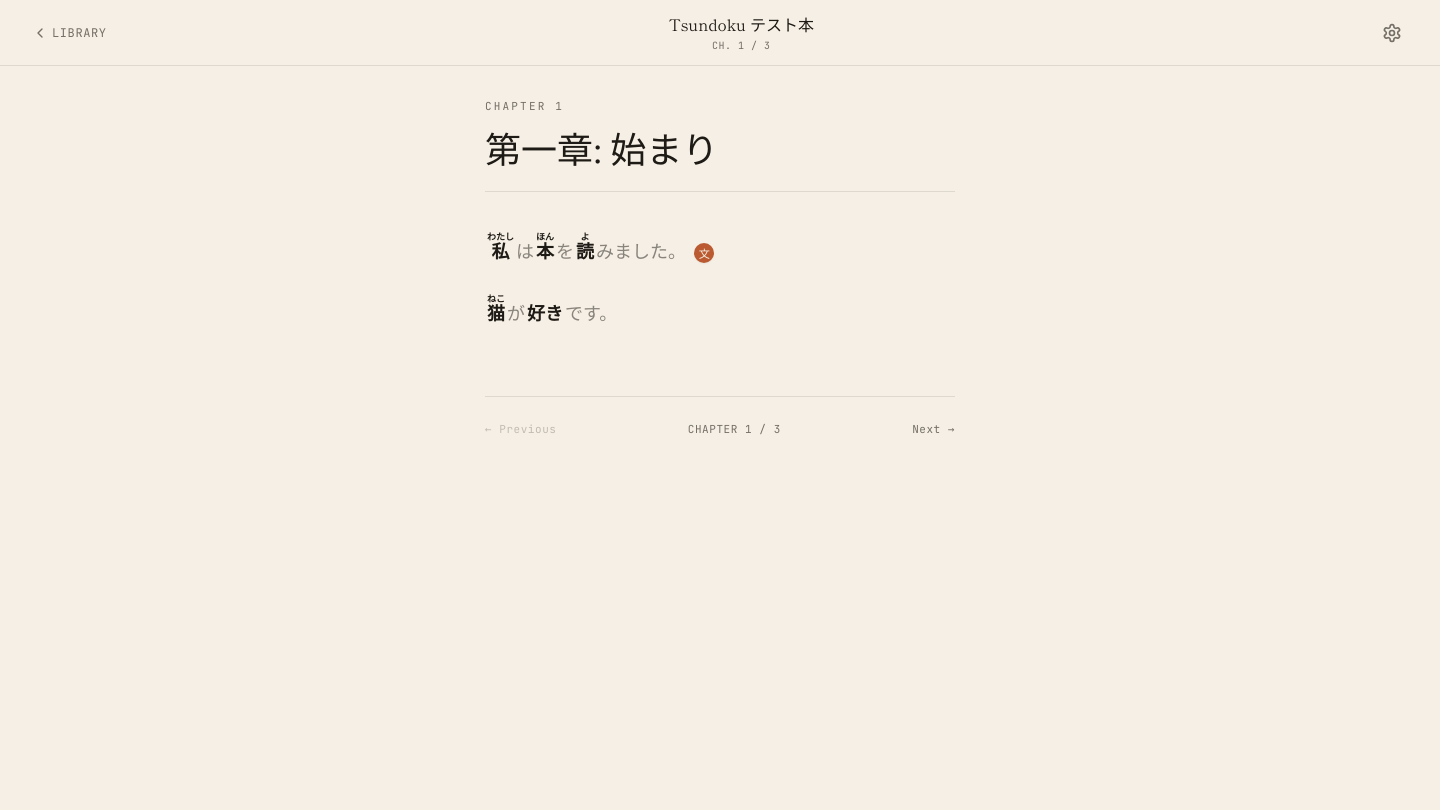
Test: Reader › grammar badge › opens a sheet with the pattern title and explanation when the badge is tapped
The image size is (1440, 810).
Click the button named "grammar notes for paragraph p0" at {"x": 704, "y": 253}, box [694,243,714,263]
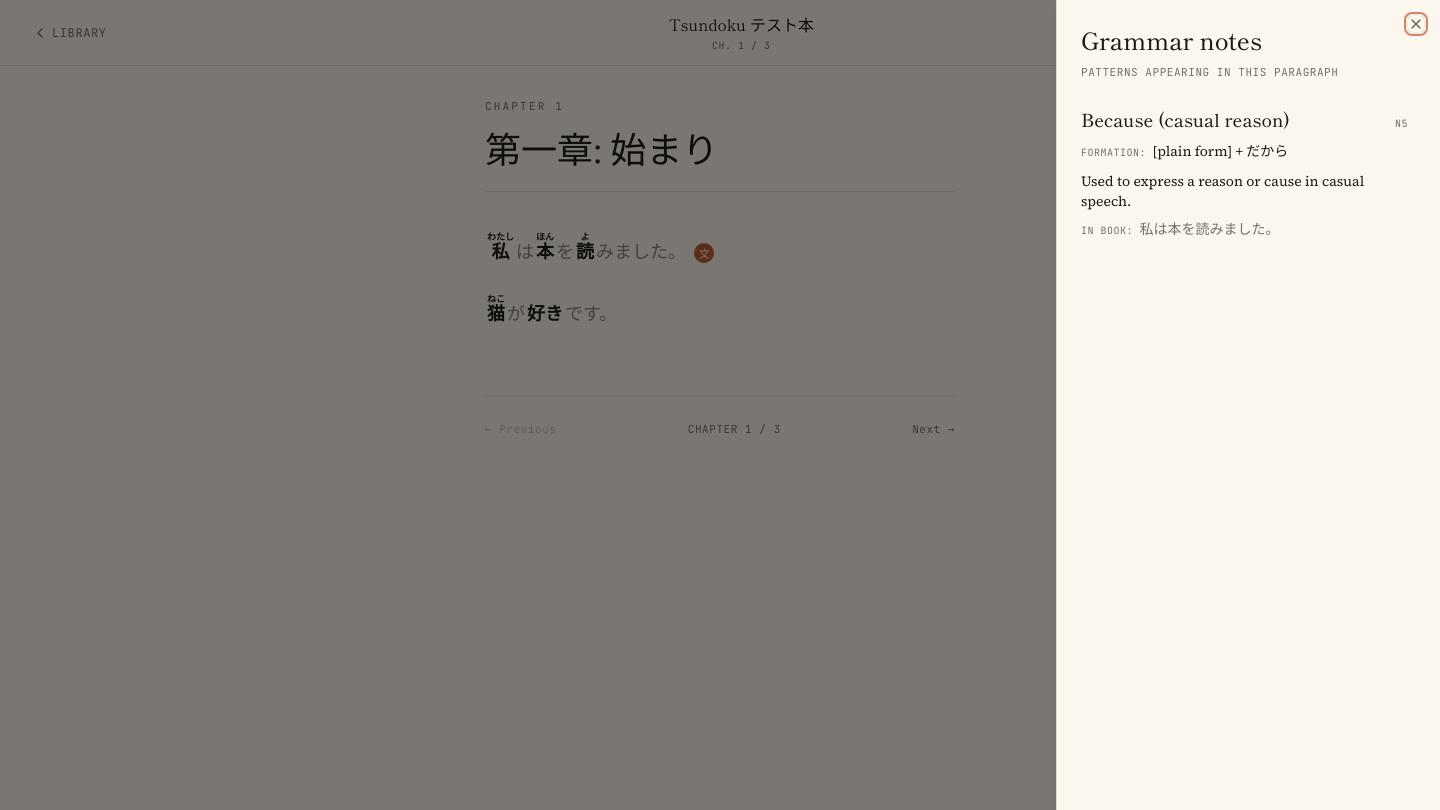
Result: the heading "Because (casual reason)" is shown at [1081,104,1290,132]
Result: the text "Used to express a reason or cause in casual speech." is shown at [1081,170,1364,210]
